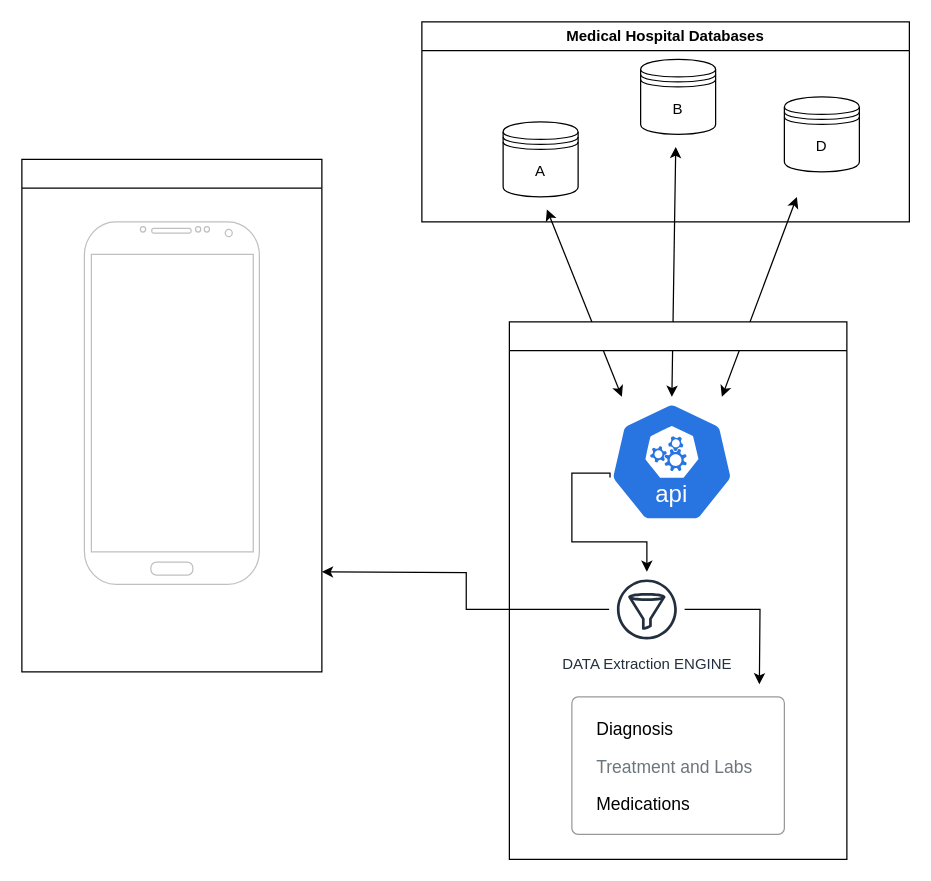
Image size: 931x881. Some labels were removed from this diagram. The box of each missing label's shape, as (x1, y1, x2, y2) in pixels:
Data request and Manipulation: (508, 321, 847, 859)
UI: (21, 158, 322, 672)
